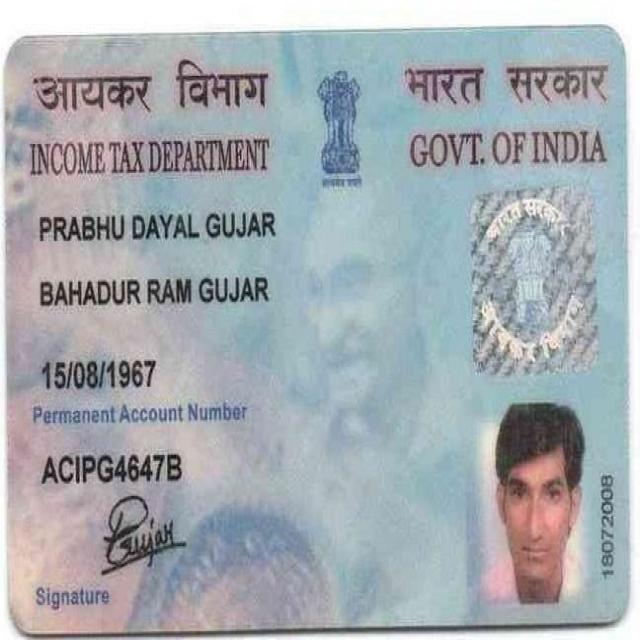pan_card: (1, 31, 640, 640)
